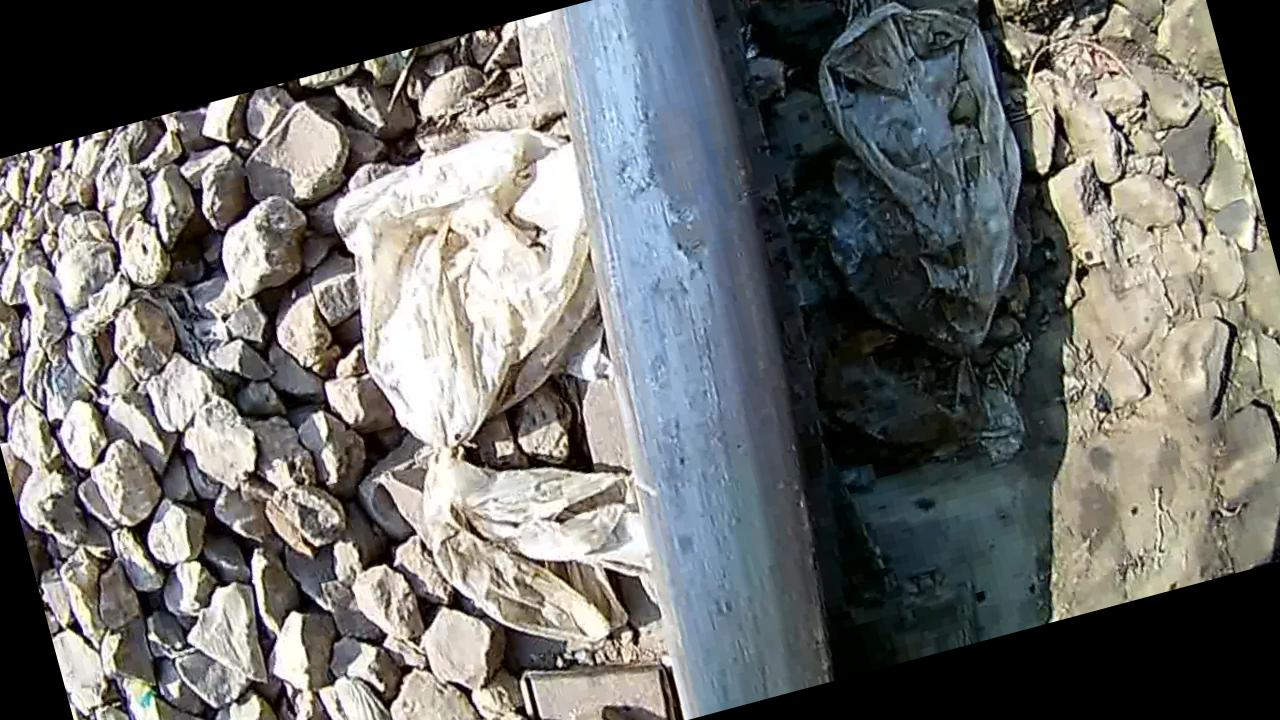bolt_missing: (554, 30, 828, 534)
